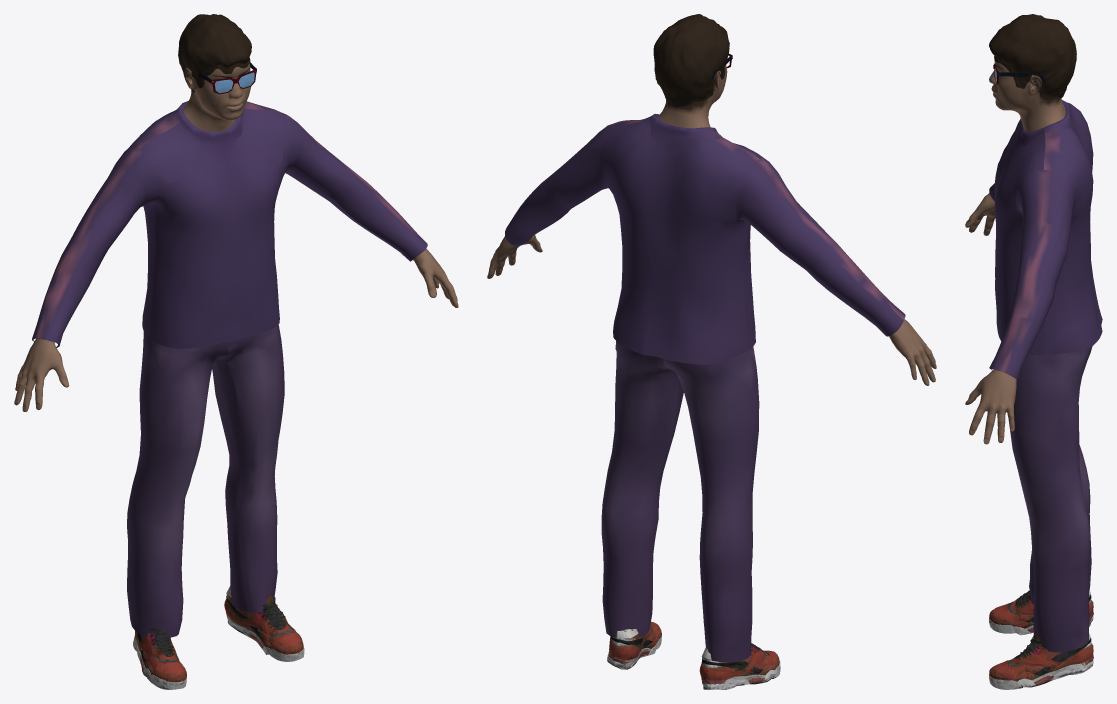
The model's file is 2631-People-cast-cooked-mh-59.glb.
3 views of the same model, side by side, from view 1: azimuth 30°, elevation 25°; view 2: azimuth 150°, elevation 25°; view 3: azimuth 270°, elevation 25° (orthographic).
Parts seen in each view (by area): view 1: People: cast (cooked)/mh_59; view 2: People: cast (cooked)/mh_59; view 3: People: cast (cooked)/mh_59.
Part boxes in pixels (bbox=[...]): People: cast (cooked)/mh_59: bbox=[14, 14, 458, 689]; People: cast (cooked)/mh_59: bbox=[487, 14, 936, 689]; People: cast (cooked)/mh_59: bbox=[965, 14, 1102, 689].
Bounding box in the file's own units: 1.28 × 1.81 × 0.3533.
